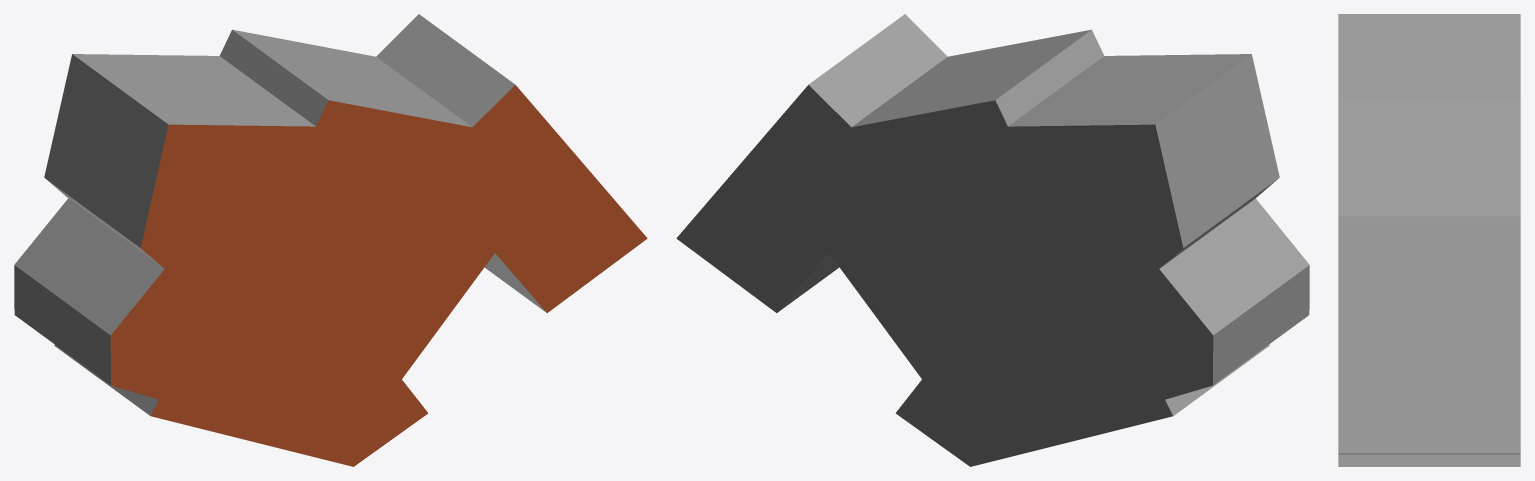
Rendered from construction_1978_assumed_A_Capela_h6m.obj.
3 renders of one model, left to right at view 1: azimuth 30°, elevation 25°; view 2: azimuth 150°, elevation 25°; view 3: azimuth 270°, elevation 25°, orthographic. The views are drawn at different scales.
Parts seen in each view (by area): view 1: construction_1978_assumed_A_Capela; view 2: construction_1978_assumed_A_Capela; view 3: construction_1978_assumed_A_Capela.
Boxes of the visible parts, left/top/right/bottom form: construction_1978_assumed_A_Capela: left=14, top=14, right=647, bottom=466; construction_1978_assumed_A_Capela: left=676, top=14, right=1309, bottom=466; construction_1978_assumed_A_Capela: left=1338, top=14, right=1520, bottom=466.
Bounding box in the file's own units: 19.28 × 13.3 × 6.
